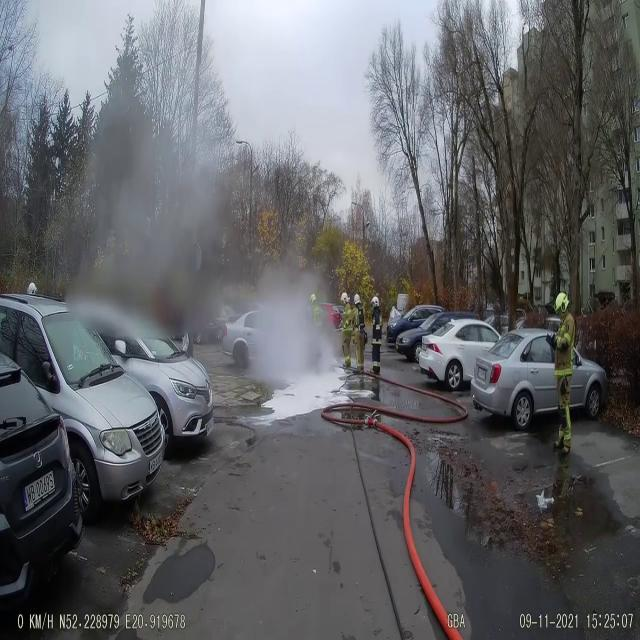Smoke: (68, 47, 232, 349), (235, 237, 353, 415)
